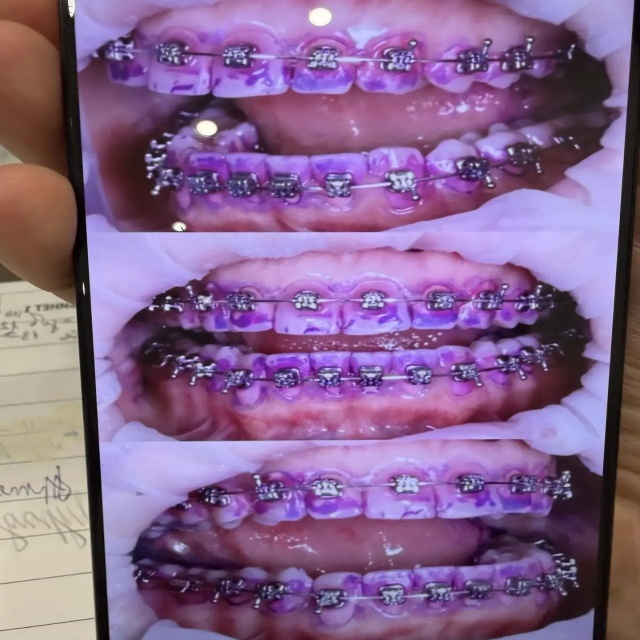braces: (64, 128, 576, 512)
plaque: (5, 0, 566, 640), (45, 609, 145, 640)
